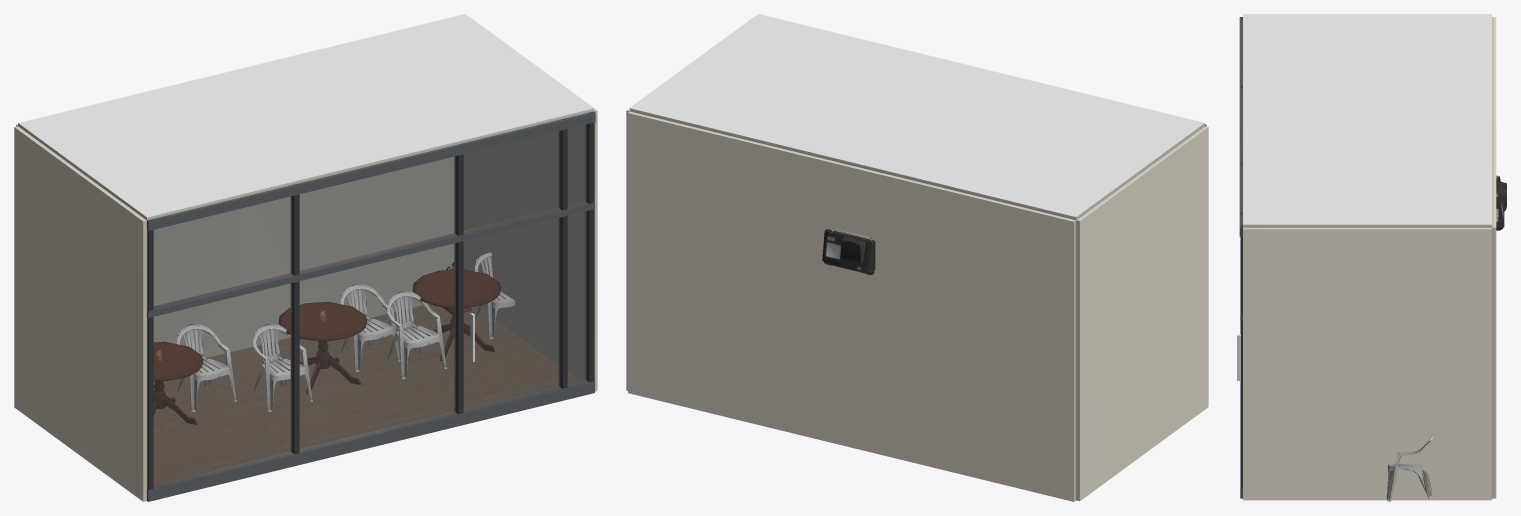
The model's file is shop_chicken.glb.
3 renders of one model, left to right at view 1: azimuth 30°, elevation 25°; view 2: azimuth 150°, elevation 25°; view 3: azimuth 270°, elevation 25°, orthographic. The views are drawn at different scales.
Visible parts, largest first — view 1: body; view 2: body; view 3: body.
Boxes of the visible parts, box(x1,y1,x2,y2) form: body: box(14, 14, 597, 501); body: box(626, 14, 1208, 501); body: box(1237, 14, 1506, 501).
Bounding box in the file's own units: 6.27 × 3.64 × 3.25.
Materials: 23 (18 with a texture image).
